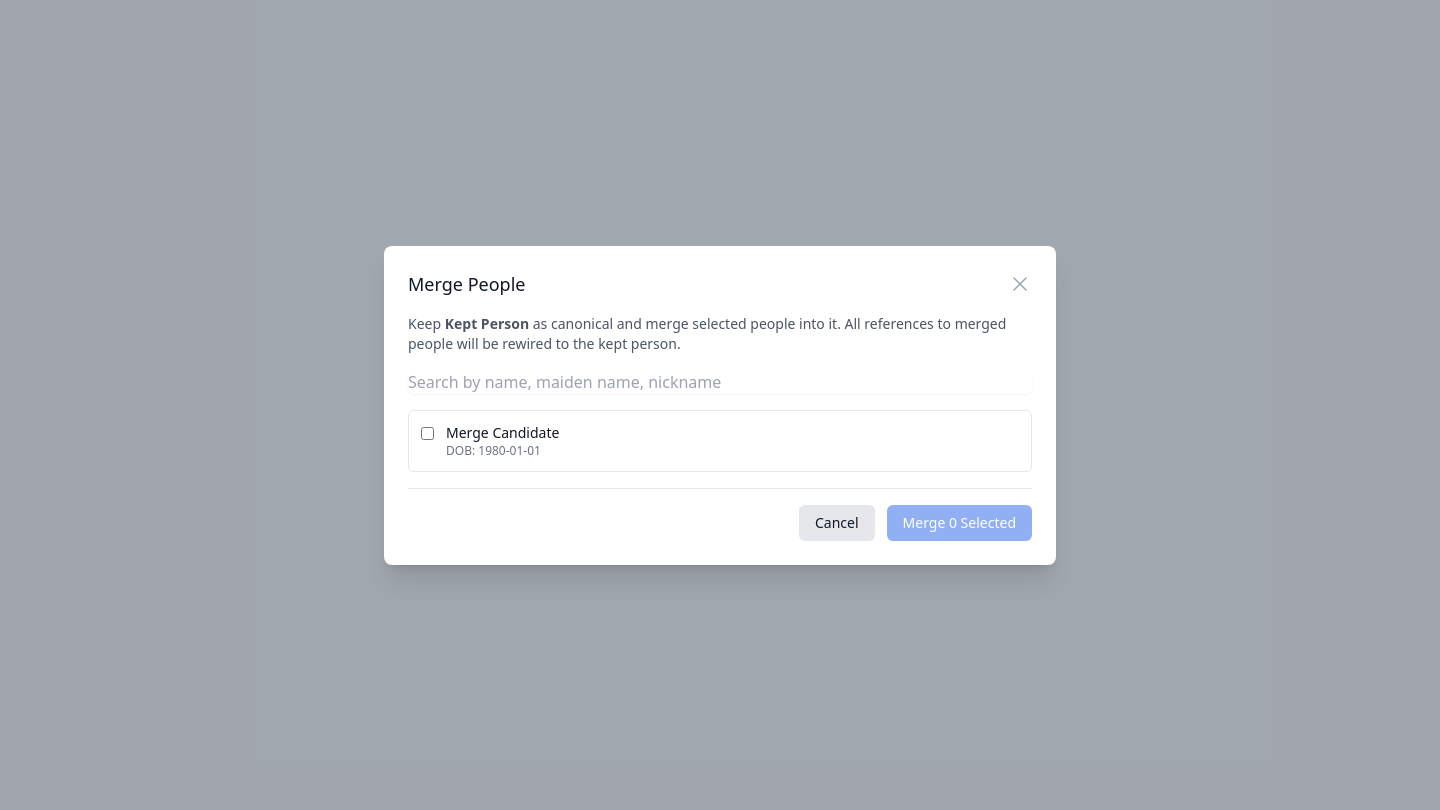
Test: MergePeopleModal › renders preview loading state
Expected: the text "Merge Candidate" is shown, [446, 422, 559, 442]
Click the checkbox at (428, 433), box [421, 426, 434, 440]
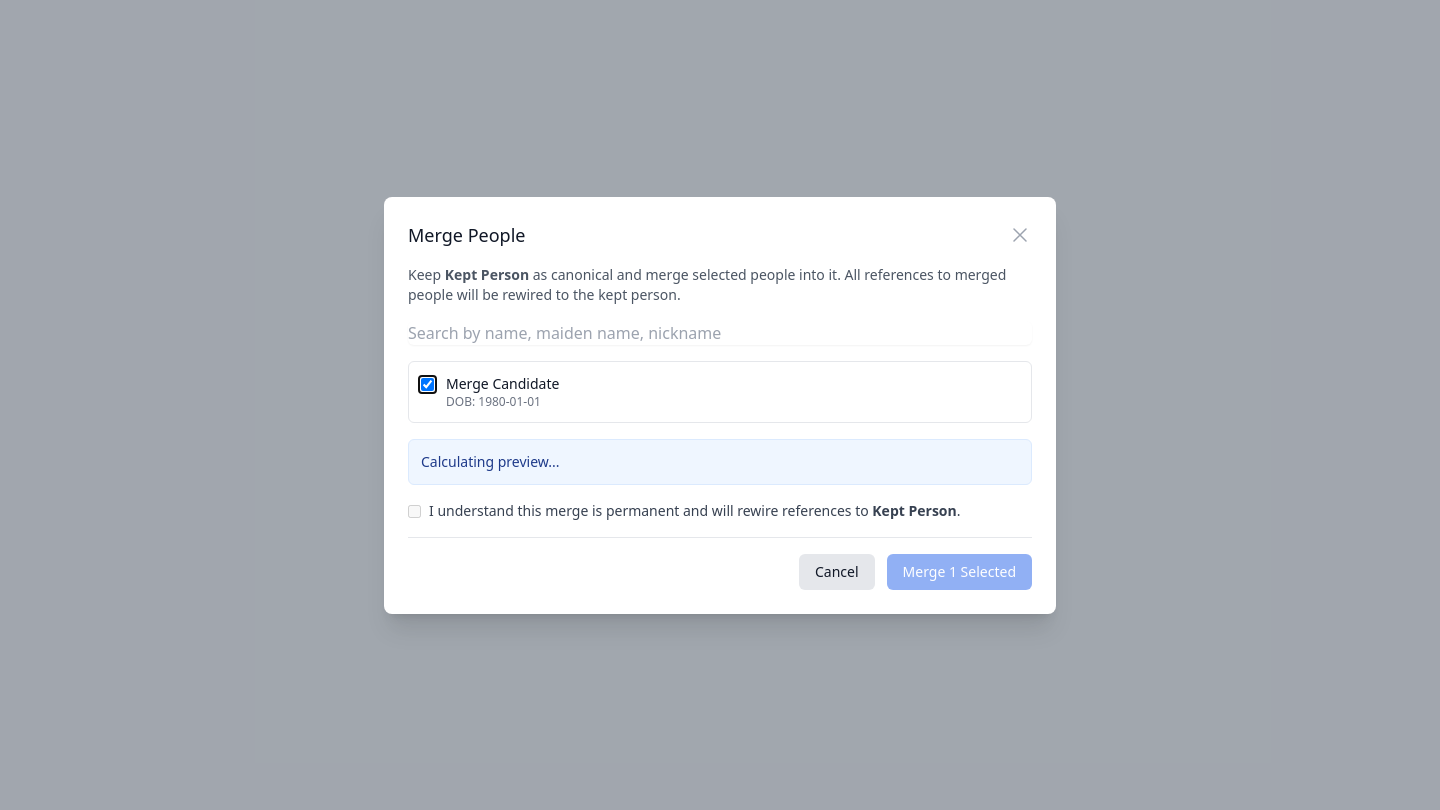
Expected: the text "Calculating preview..." is shown, [408, 438, 1032, 484]
